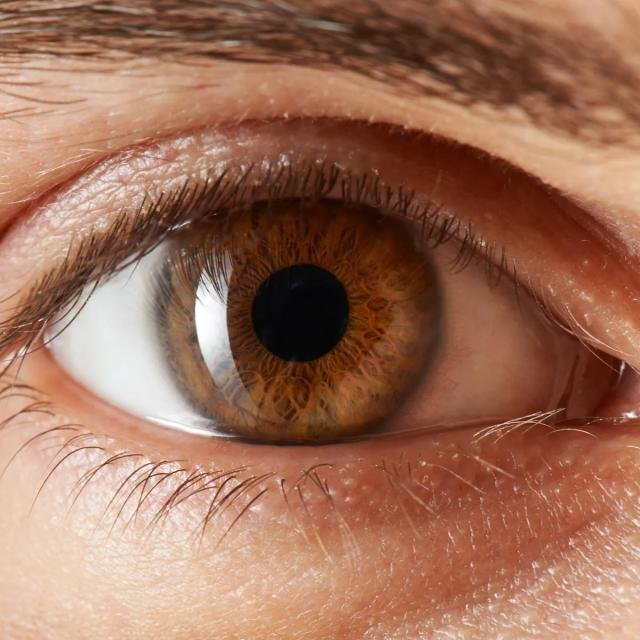Eyes-iris: (151, 197, 447, 453)
